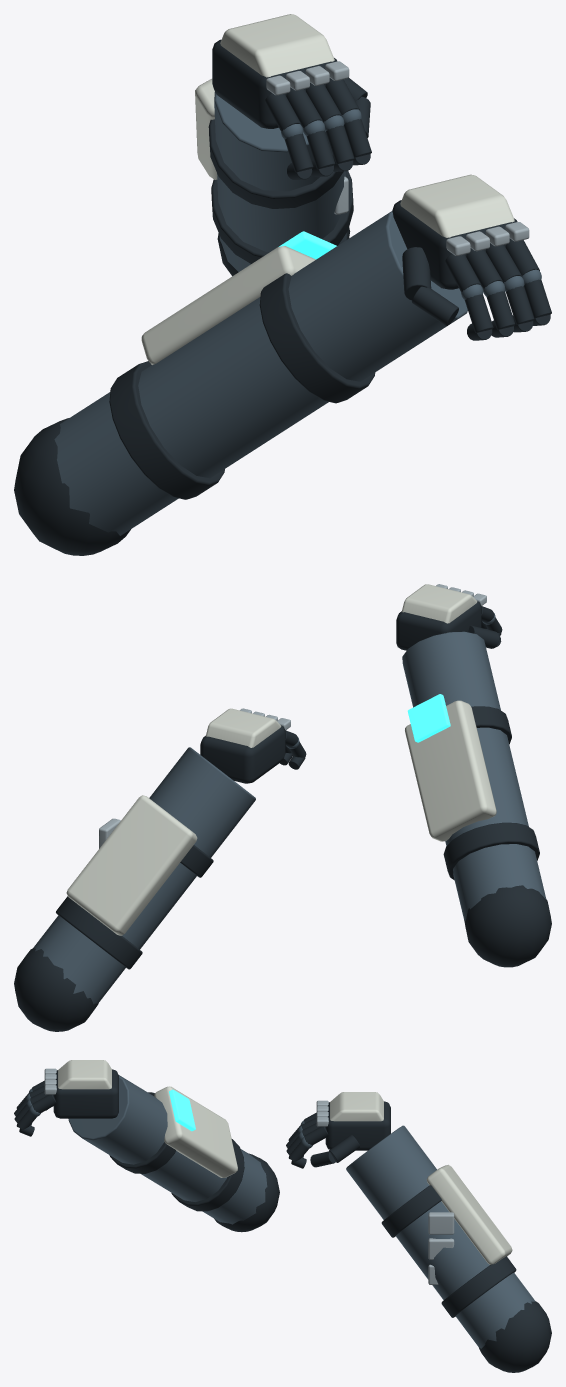
Rendered from operative-arms-v04.glb.
The picture shows the model from 3 angles, top to bottom: view 1: azimuth 30°, elevation 25°; view 2: azimuth 150°, elevation 25°; view 3: azimuth 270°, elevation 25°; orthographic projection. The views are drawn at different scales.
Visible parts, largest first — view 1: forearm_L / Cerakote midnight, forearm_L / Elastomer, hand_L / Elastomer, hand_R / Elastomer, forearm_R / Cerakote midnight, forearm_L / Ceramic, forearm_R / Elastomer, hand_L / Ceramic, hand_R / Ceramic, hand_L / Titanium, hand_R / Titanium, forearm_R / Ceramic (+3 smaller); view 2: forearm_L / Cerakote midnight, forearm_R / Cerakote midnight, forearm_R / Ceramic, forearm_L / Elastomer, forearm_L / Ceramic, forearm_R / Elastomer, hand_R / Elastomer, hand_L / Elastomer, hand_L / Ceramic, hand_R / Ceramic, forearm_L / Phase glass; view 3: forearm_R / Cerakote midnight, forearm_L / Cerakote midnight, forearm_R / Elastomer, forearm_L / Ceramic, hand_R / Elastomer, forearm_L / Elastomer, forearm_R / Ceramic, hand_L / Elastomer, hand_L / Ceramic, hand_R / Ceramic, forearm_R / Titanium, forearm_L / Phase glass.
Part boxes in pixels (box(x1,y1,x2,y2)): forearm_L / Cerakote midnight: box(54, 211, 467, 535); forearm_L / Elastomer: box(14, 273, 375, 555); hand_L / Elastomer: box(392, 200, 551, 340); hand_R / Elastomer: box(212, 39, 371, 179); forearm_R / Cerakote midnight: box(214, 92, 346, 271); forearm_L / Ceramic: box(141, 246, 315, 364); forearm_R / Elastomer: box(208, 119, 353, 276); hand_L / Ceramic: box(400, 174, 514, 237); hand_R / Ceramic: box(220, 14, 334, 77); hand_L / Titanium: box(446, 222, 529, 255); hand_R / Titanium: box(266, 61, 349, 95); forearm_R / Ceramic: box(195, 79, 217, 179); forearm_L / Cerakote midnight: box(402, 631, 546, 921); forearm_R / Cerakote midnight: box(33, 747, 255, 1004); forearm_R / Ceramic: box(66, 795, 197, 935); forearm_L / Elastomer: box(443, 706, 551, 967); forearm_L / Ceramic: box(405, 700, 496, 841); forearm_R / Elastomer: box(14, 845, 213, 1031); hand_R / Elastomer: box(200, 725, 306, 783); hand_L / Elastomer: box(396, 601, 502, 650); hand_L / Ceramic: box(401, 584, 477, 623); hand_R / Ceramic: box(205, 708, 281, 747); forearm_L / Phase glass: box(407, 694, 450, 742); forearm_R / Cerakote midnight: box(346, 1125, 535, 1348); forearm_L / Cerakote midnight: box(68, 1075, 267, 1224); forearm_R / Elastomer: box(381, 1185, 551, 1372); forearm_L / Ceramic: box(154, 1086, 237, 1177); hand_R / Elastomer: box(286, 1101, 390, 1168); forearm_L / Elastomer: box(109, 1092, 279, 1232); forearm_R / Ceramic: box(426, 1164, 512, 1264); hand_L / Elastomer: box(14, 1069, 118, 1136); hand_L / Ceramic: box(58, 1060, 111, 1089); hand_R / Ceramic: box(330, 1092, 383, 1121); forearm_R / Titanium: box(428, 1212, 454, 1284); forearm_L / Phase glass: box(169, 1089, 195, 1131).
Size of the model in its own units: 0.568 by 0.4169 by 0.8308.
